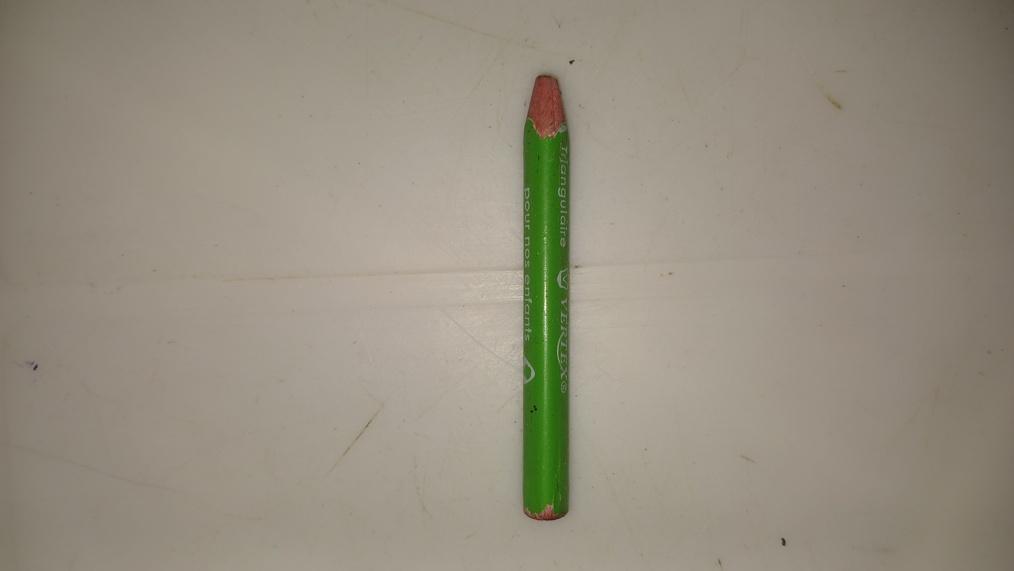Pencil: (523, 69, 572, 522)
